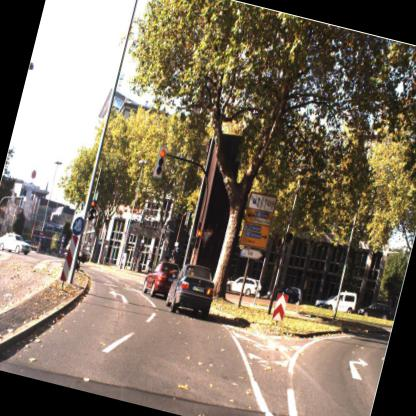mandatory: (66, 204, 94, 244)
other: (194, 220, 218, 252)
